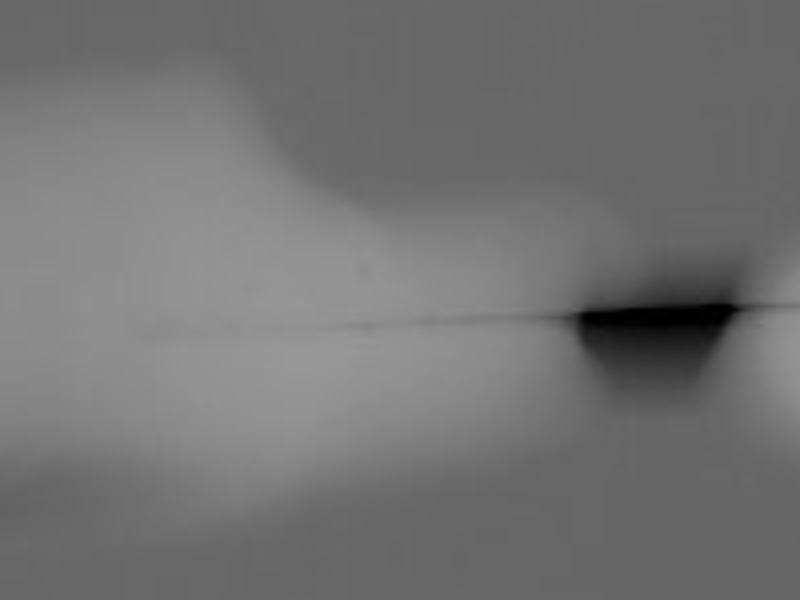defect: (571, 303, 736, 370)
